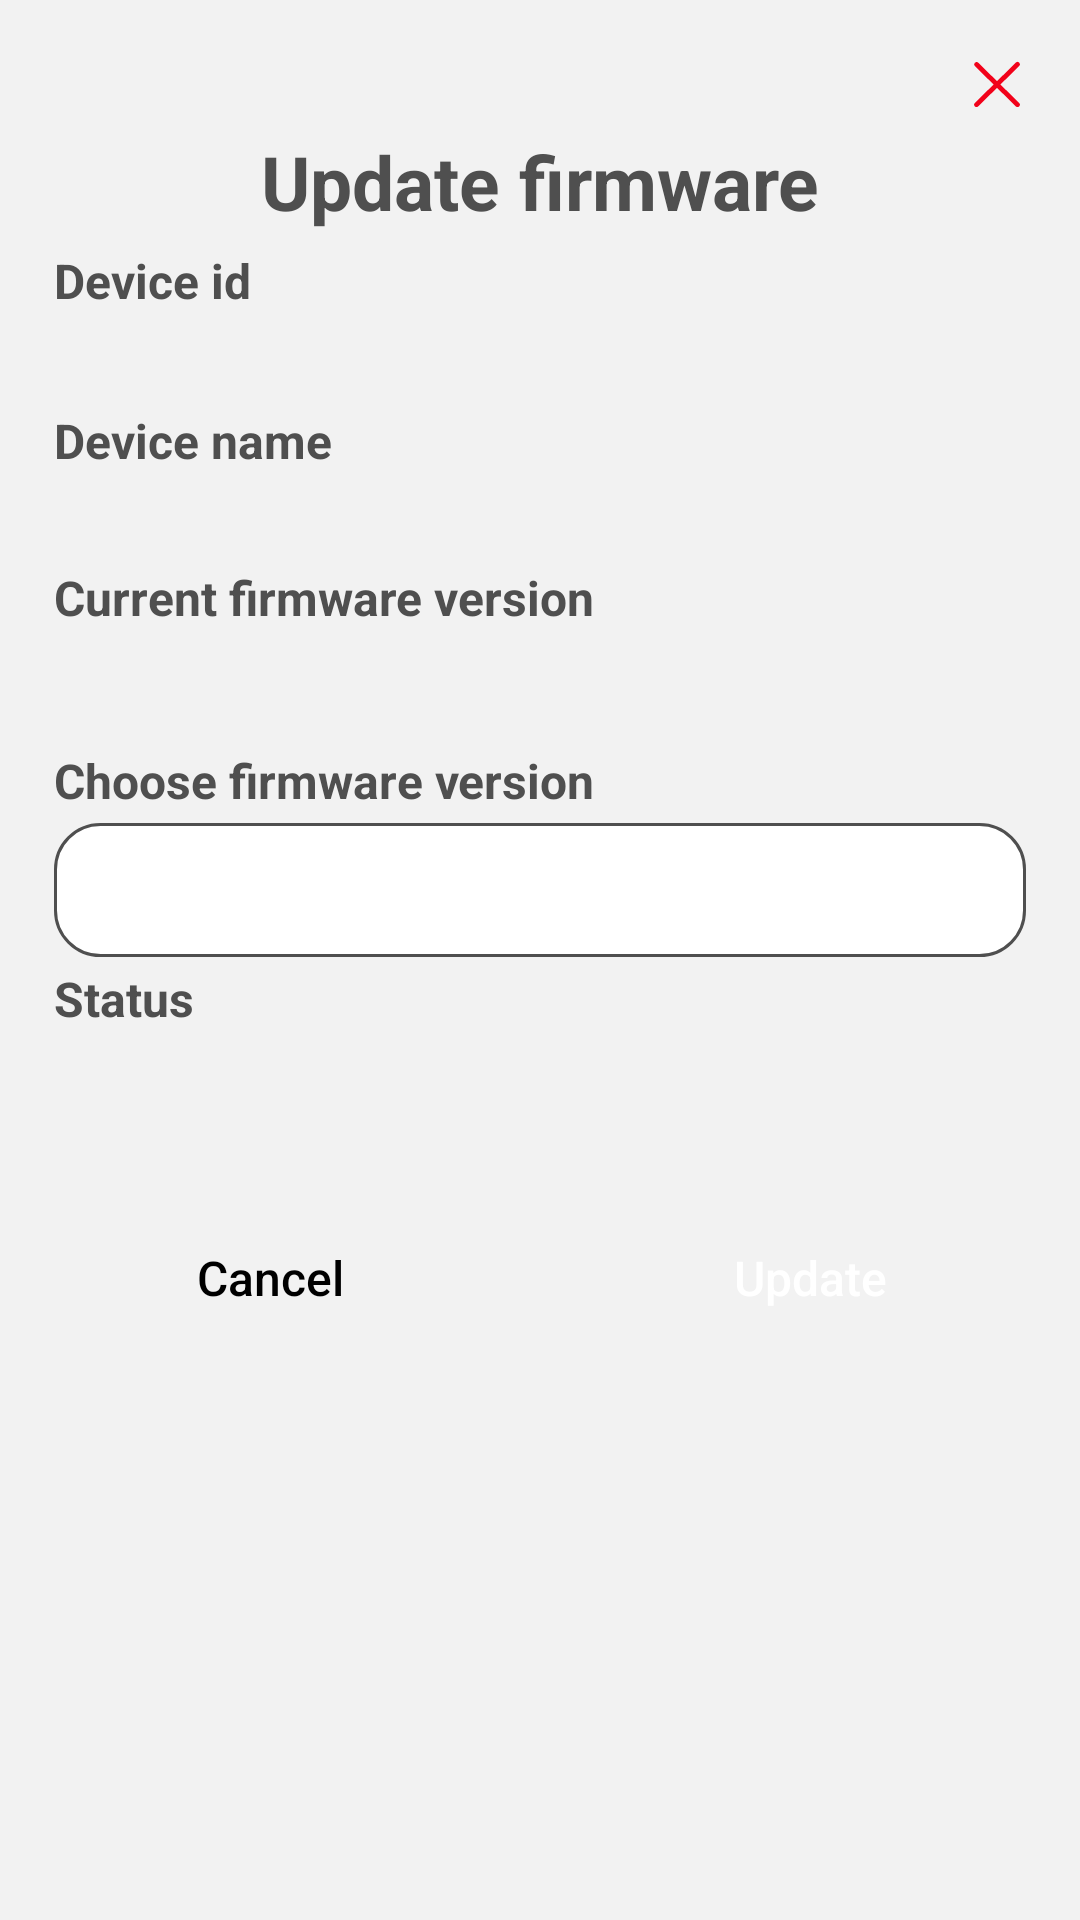

Icon click points for this 1080 x 1920 phone screenshot, format [x,y]:
close: [997,84]
